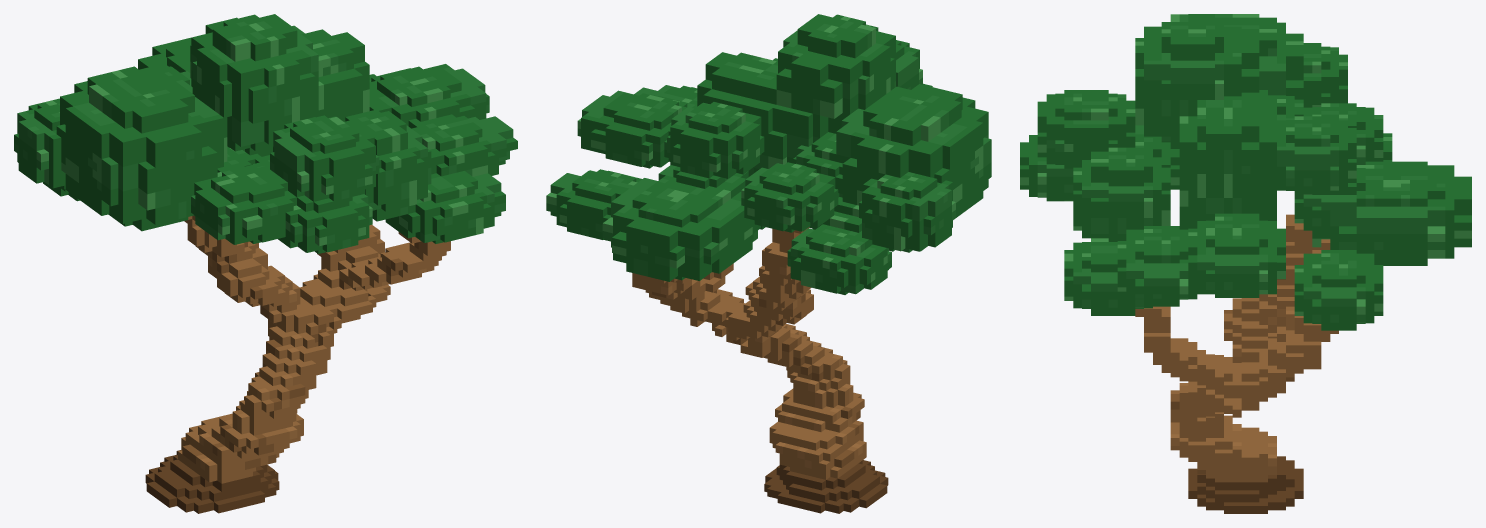
Rendered from 1_2 caju.obj.
The picture shows the model from 3 angles, left to right: view 1: azimuth 30°, elevation 25°; view 2: azimuth 150°, elevation 25°; view 3: azimuth 270°, elevation 25°; orthographic projection. The views are drawn at different scales.
Bounding box in the file's own units: 5.3 × 5.8 × 5.1.
1 material, 1 textured.
